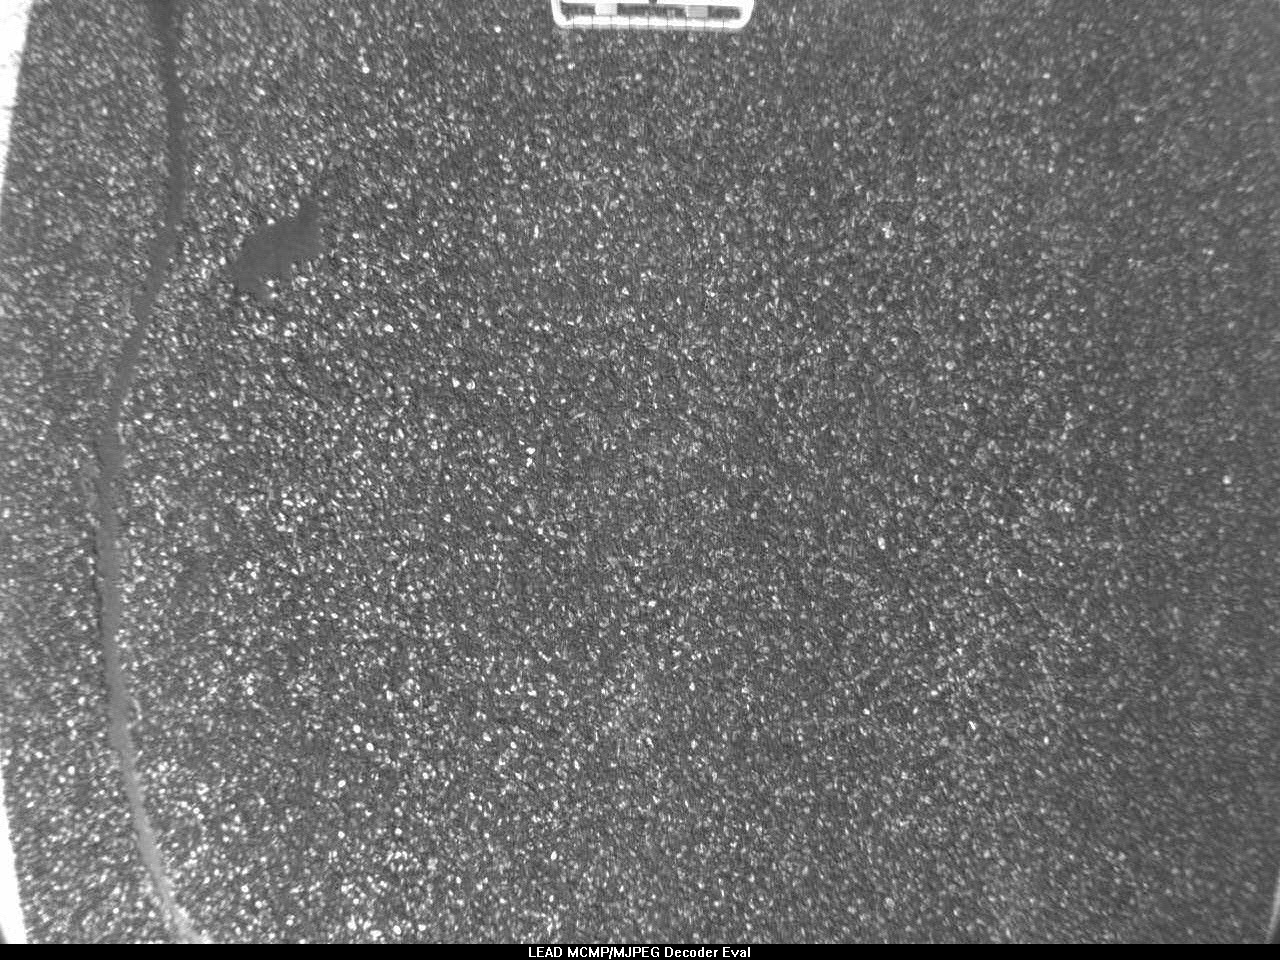sealed: (73, 2, 208, 928)
